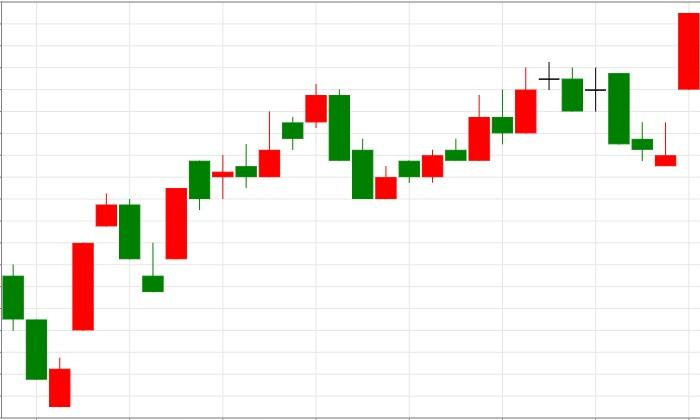evening_star_fall: (375, 61, 583, 199)
three_white_soldiers_rise: (2, 193, 117, 407)
